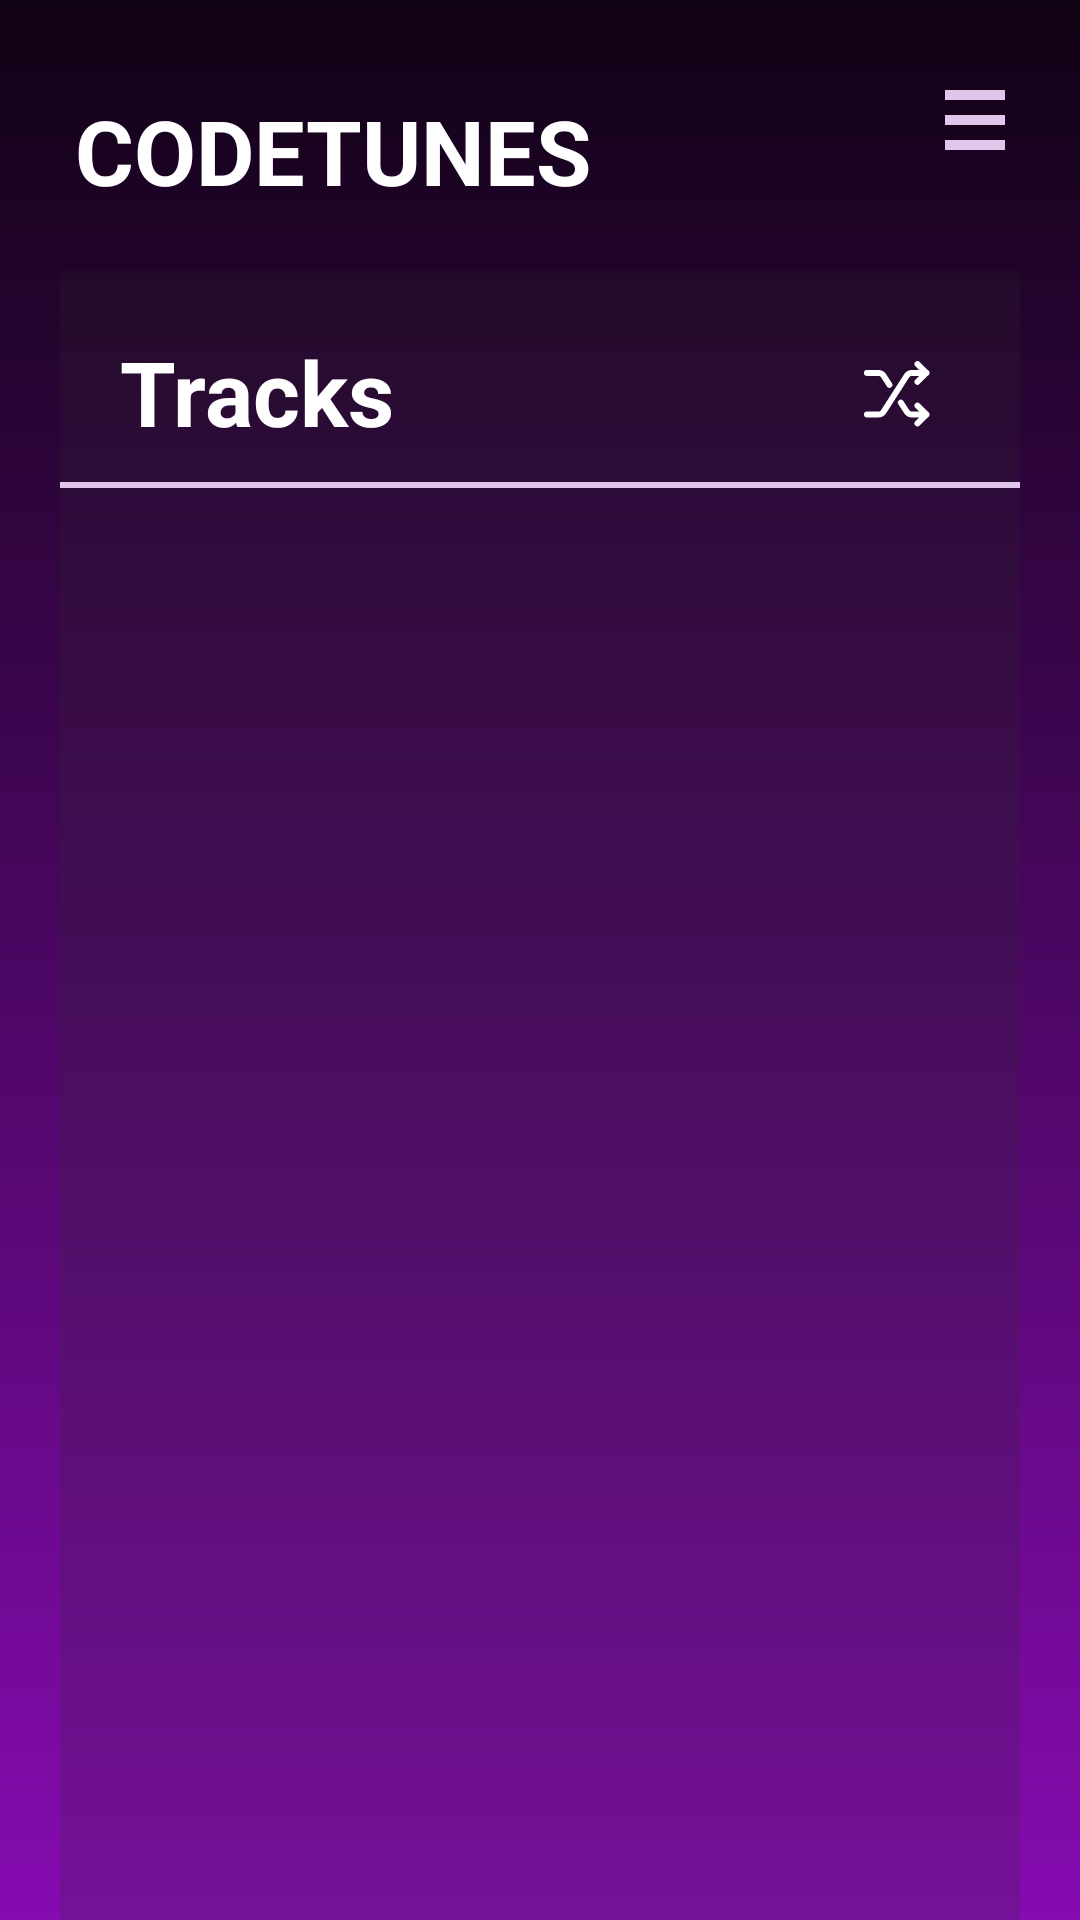

Point at icon controls on the screen. Image size 1080px×1920px, points as point (x, y).
menu: point (975, 120)
